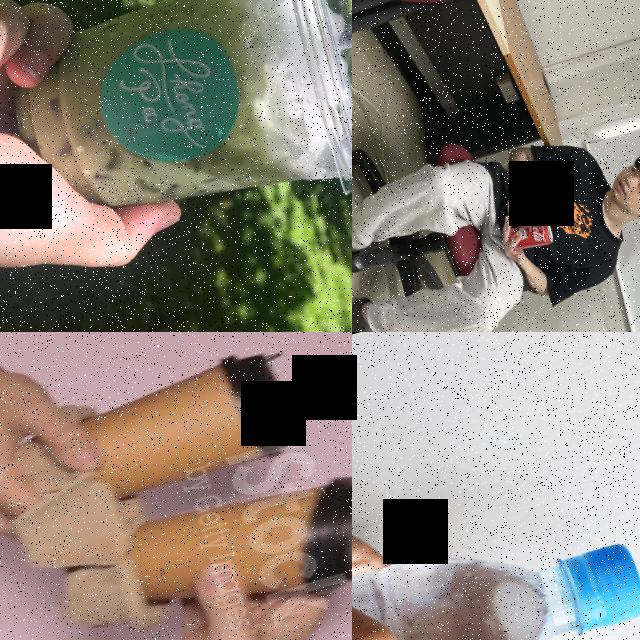bottle: (352, 497, 640, 640)
can: (504, 218, 554, 254)
cup: (0, 0, 352, 279), (117, 454, 352, 640), (68, 337, 306, 507)
